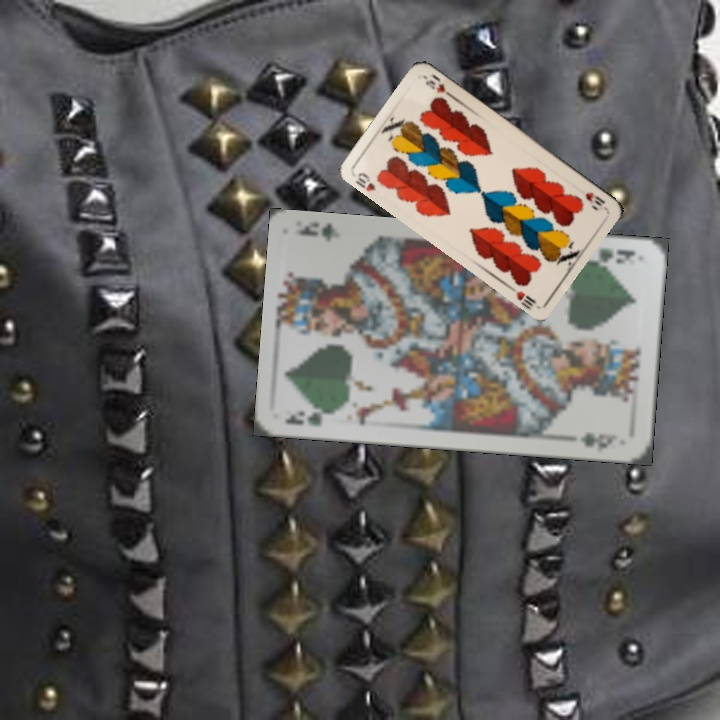GK: (280, 404, 339, 429), (594, 243, 638, 266)
H10: (352, 168, 379, 194), (581, 188, 608, 209)
